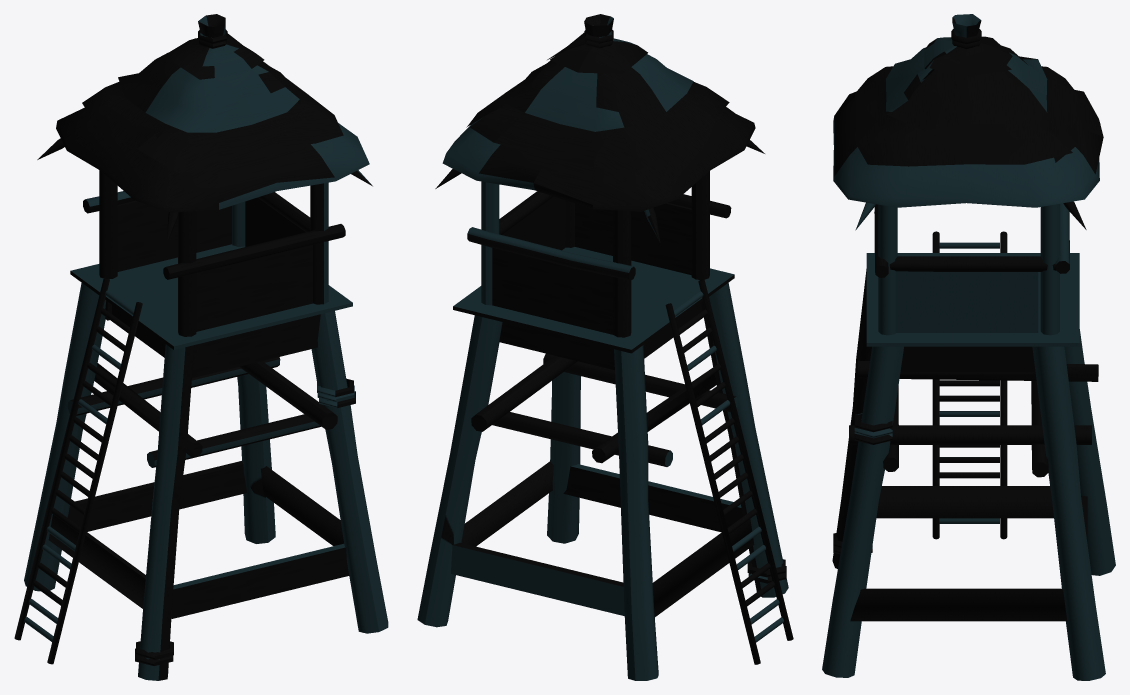
3 views of the same model, side by side, from view 1: azimuth 30°, elevation 25°; view 2: azimuth 150°, elevation 25°; view 3: azimuth 270°, elevation 25° (orthographic). The views are drawn at different scales.
Parts seen in each view (by area): view 1: Cube.001_Baked; view 2: Cube.001_Baked; view 3: Cube.001_Baked.
Part boxes in pixels (<box>): Cube.001_Baked: <box>14,14,388,680</box>; Cube.001_Baked: <box>417,14,793,680</box>; Cube.001_Baked: <box>822,14,1115,680</box>.
Size of the model in its own units: 469 by 879 by 385.
